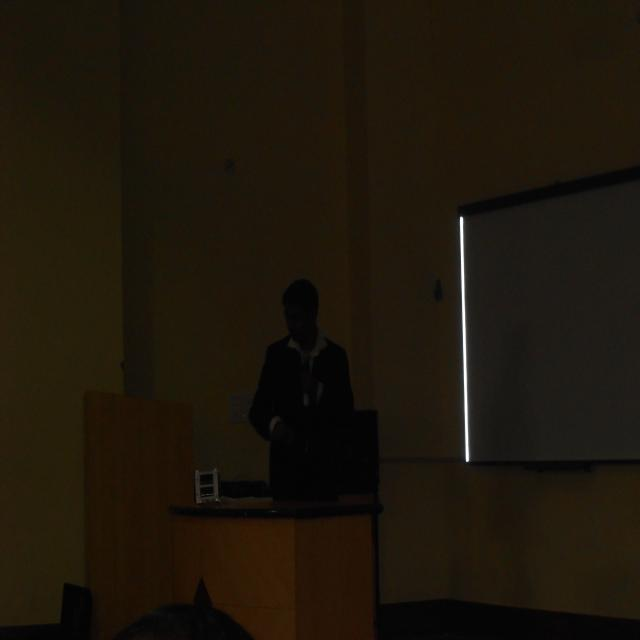People: (247, 236, 408, 566)
Table: (114, 460, 390, 640)
